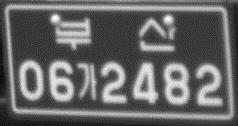0: (19, 58, 44, 102)
2: (193, 62, 223, 107), (99, 59, 127, 103)
4: (130, 60, 159, 105)
6: (48, 60, 74, 101)
8: (163, 60, 190, 107)
가: (75, 60, 98, 100)
부산_D: (52, 15, 179, 53)
